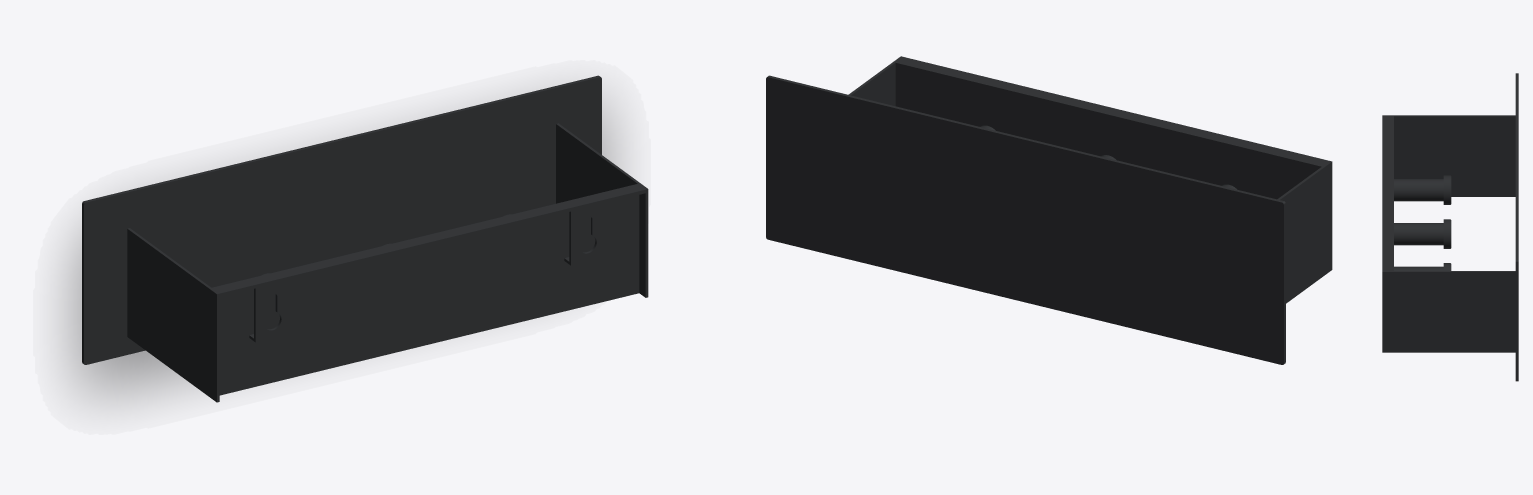
File: skyline-hook.6613be1db3.ar.glb
3 renders of one model, left to right at view 1: azimuth 30°, elevation 25°; view 2: azimuth 150°, elevation 25°; view 3: azimuth 270°, elevation 25°, orthographic. The views are drawn at different scales.
Visible parts, largest first — view 1: NAUO1, object 2; view 2: NAUO1; view 3: NAUO1.
Boxes of the visible parts, x1,y1,x2,y2 form: NAUO1: [82, 75, 648, 402]; object 2: [67, 114, 616, 396]; NAUO1: [766, 56, 1332, 364]; NAUO1: [1382, 73, 1518, 381].
Bounding box in the file's own units: 0.38 × 0.17 × 0.092.
2 materials, 1 textured.
